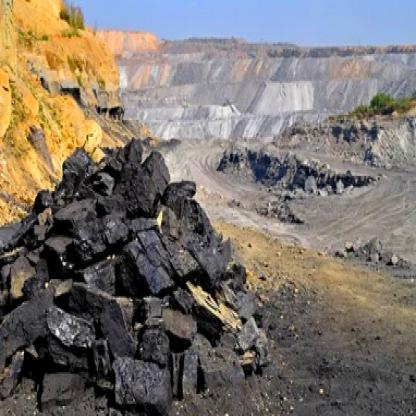Sedimentary_coal: (134, 223, 196, 286), (120, 147, 172, 222), (119, 352, 176, 414), (50, 280, 123, 320), (43, 193, 97, 240)
